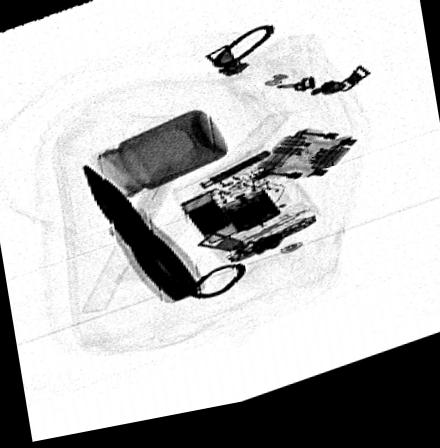Pliers: (80, 165, 200, 310)
